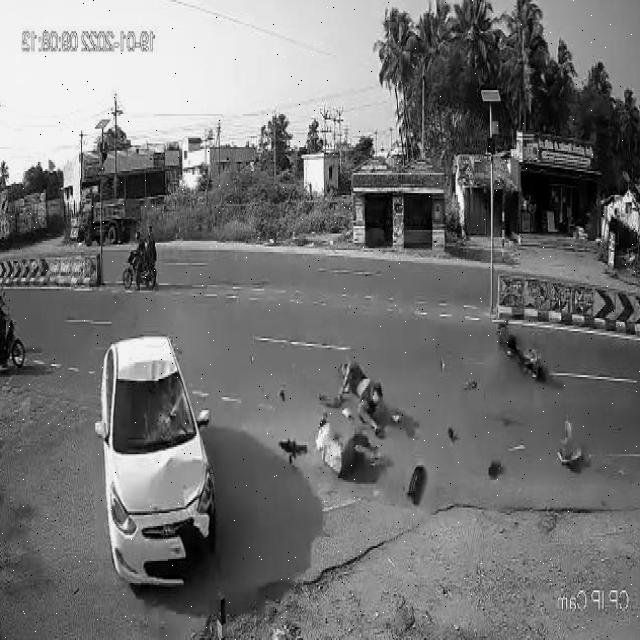accident: (89, 326, 225, 597), (479, 310, 558, 396)
